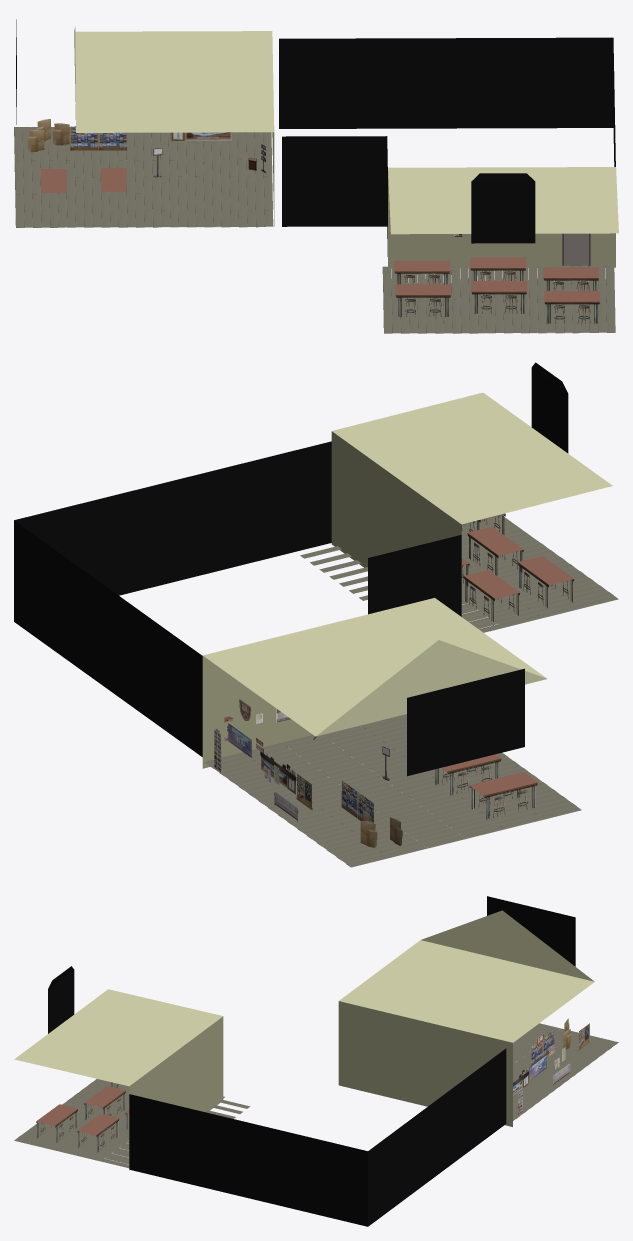
File: ut_ranger_station_int.DAE
3 views of the same model, one above another, from view 1: azimuth 30°, elevation 25°; view 2: azimuth 150°, elevation 25°; view 3: azimuth 270°, elevation 25° (orthographic). The views are drawn at different scales.
Parts seen in each view (by area): view 1: ut_ranger_station_int100; view 2: ut_ranger_station_int100; view 3: ut_ranger_station_int100.
Part boxes in pixels (x1,y1,x2,y2): ut_ranger_station_int100: (14,19,618,333); ut_ranger_station_int100: (14,362,618,867); ut_ranger_station_int100: (14,896,618,1226).
Size of the model in its own units: 20.14 by 22.85 by 5.76.
